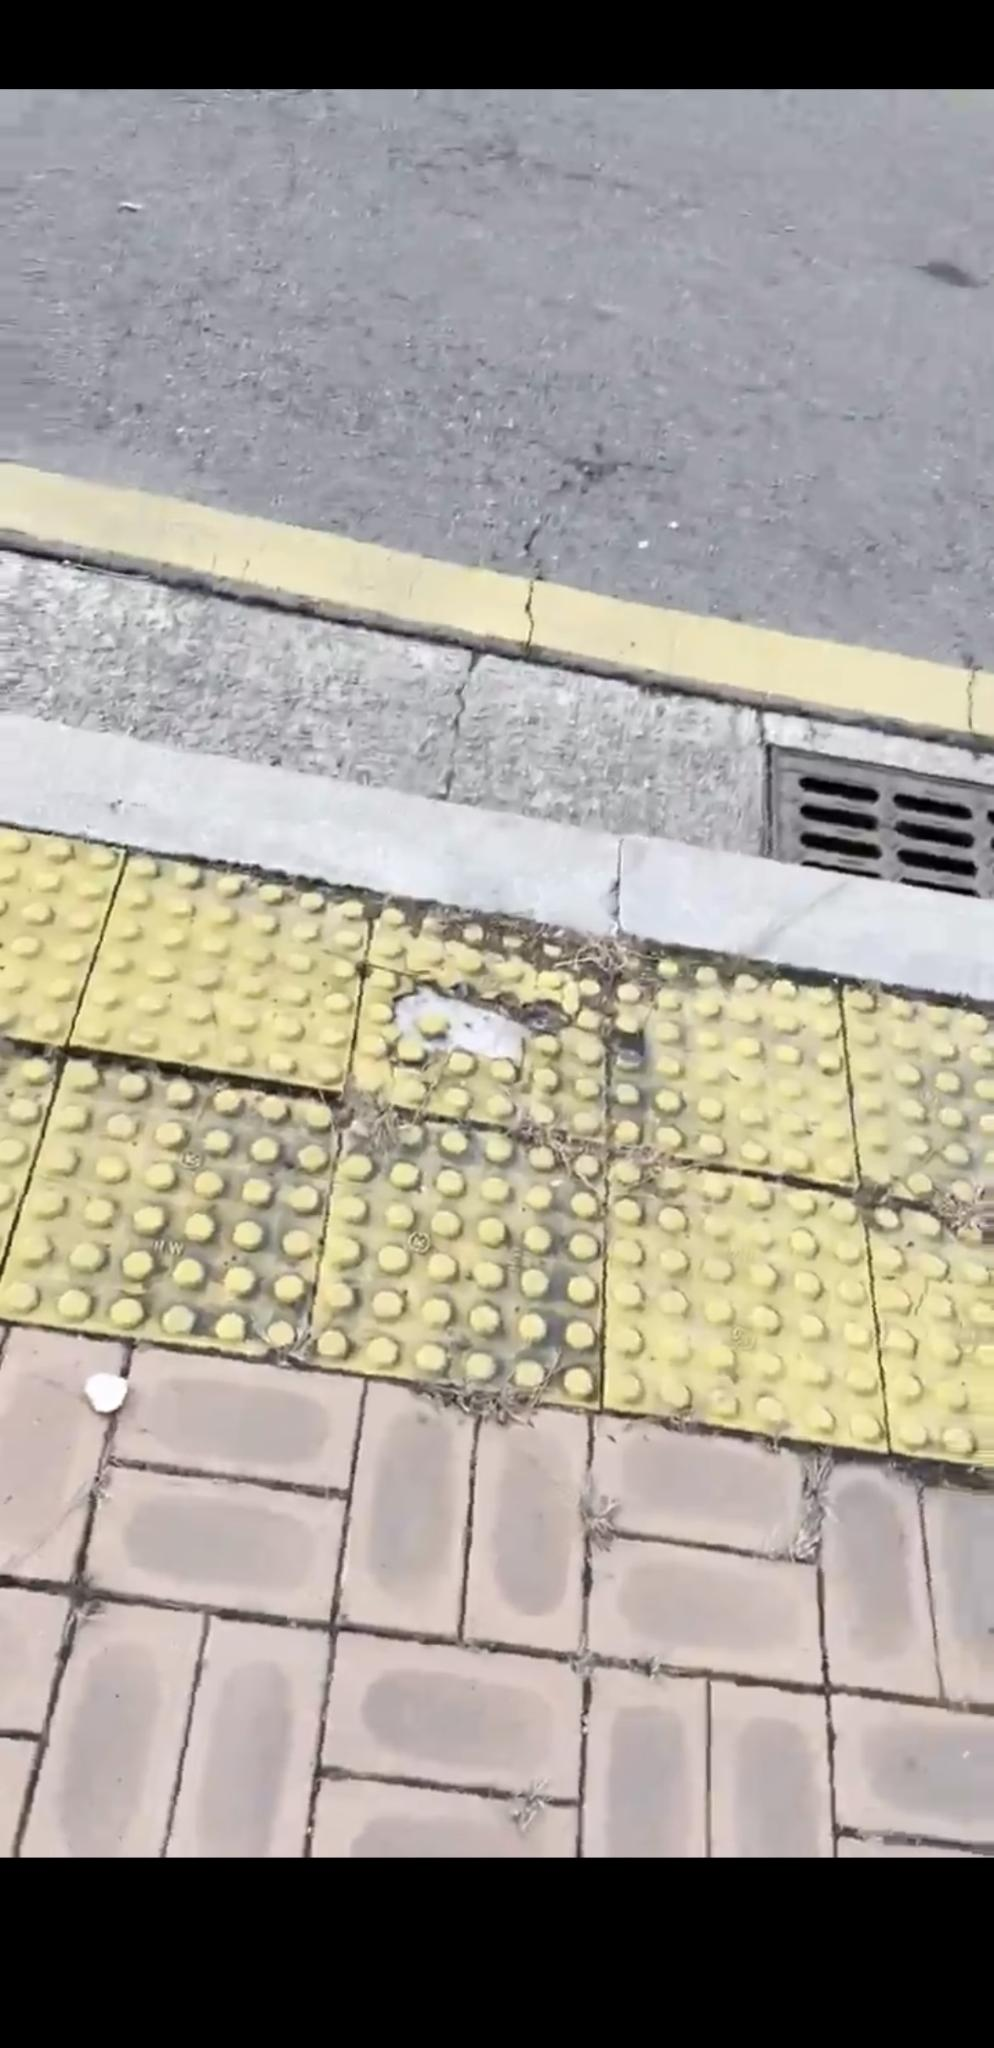Stop block broken: (349, 901, 614, 1145)
Stop block normal: (607, 1155, 886, 1450), (72, 856, 379, 1088)
